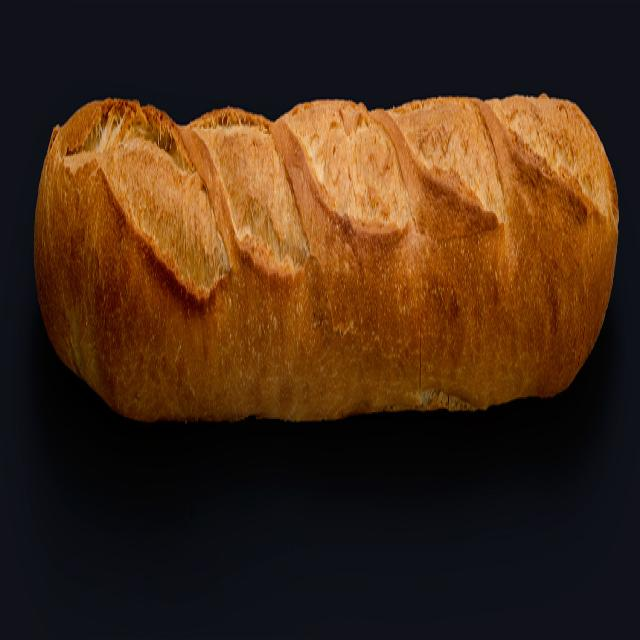Baguette: (35, 95, 618, 421)
